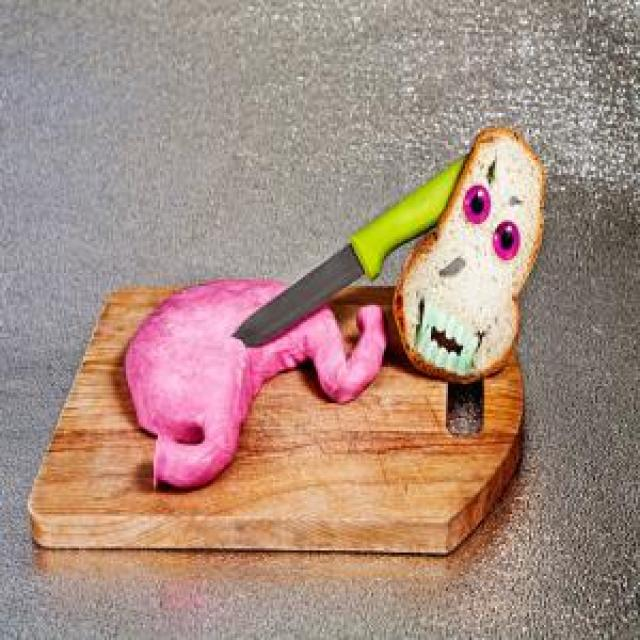knife: (232, 149, 476, 351)
